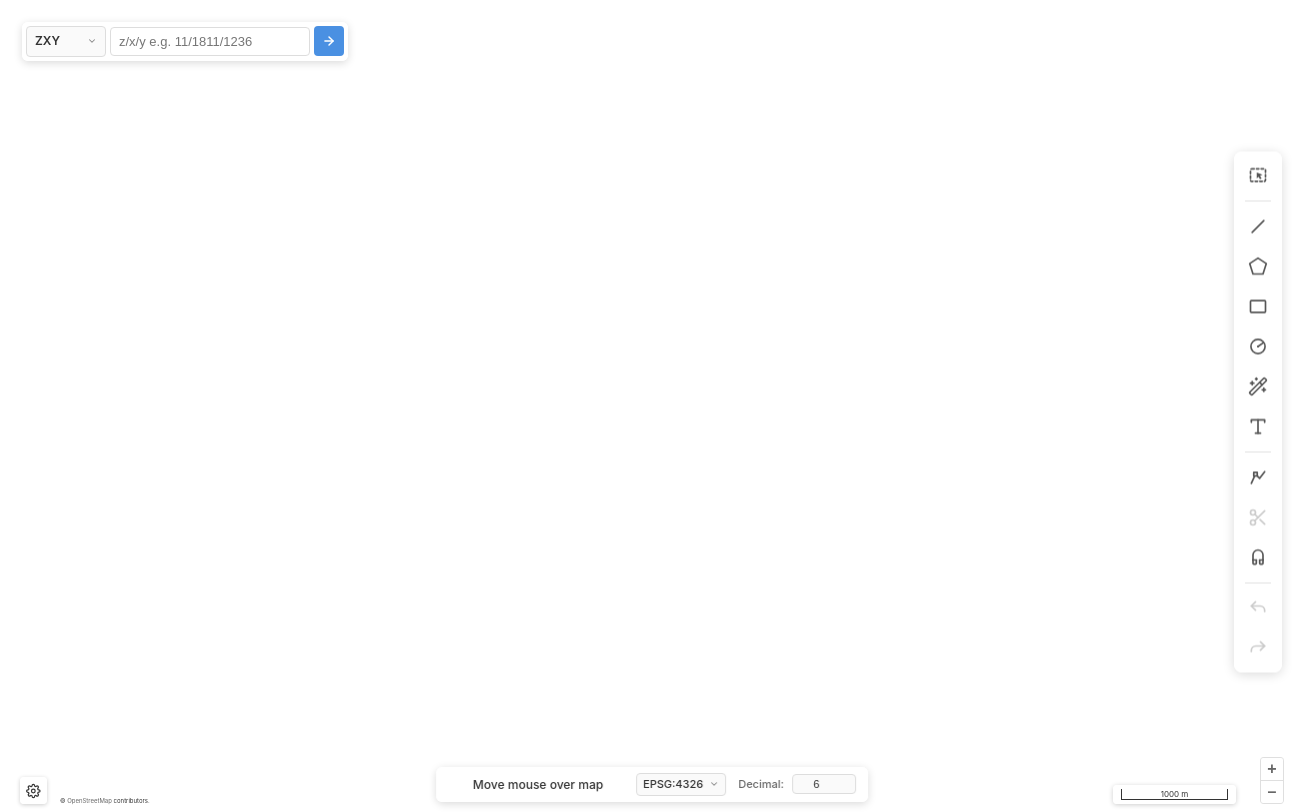
reopening the settings panel restores the editor section mid-session
Click the button titled "Settings" at [33, 791], box [20, 777, 47, 804]
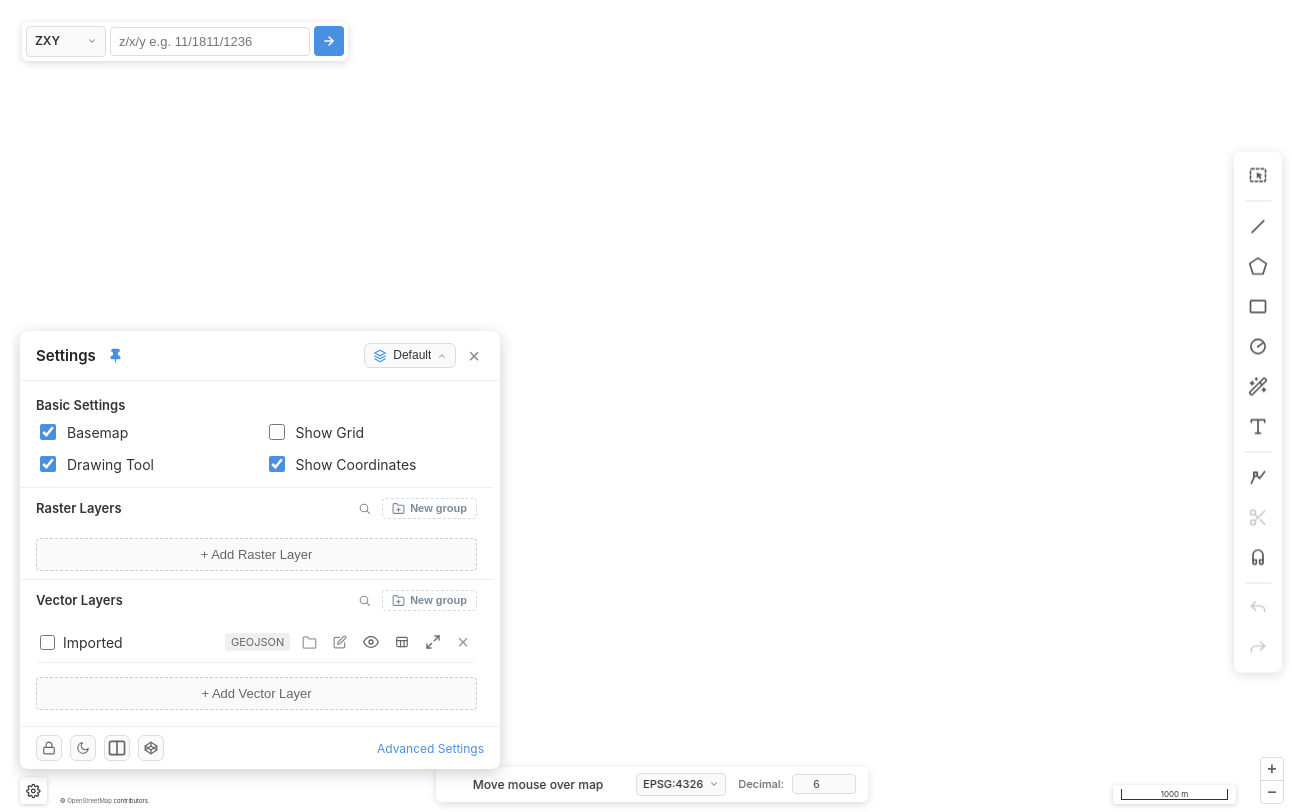
Check: the text "Imported" is shown, box [63, 634, 123, 651]
Click the button titled "Edit layer" at [340, 642], box [329, 631, 351, 653]
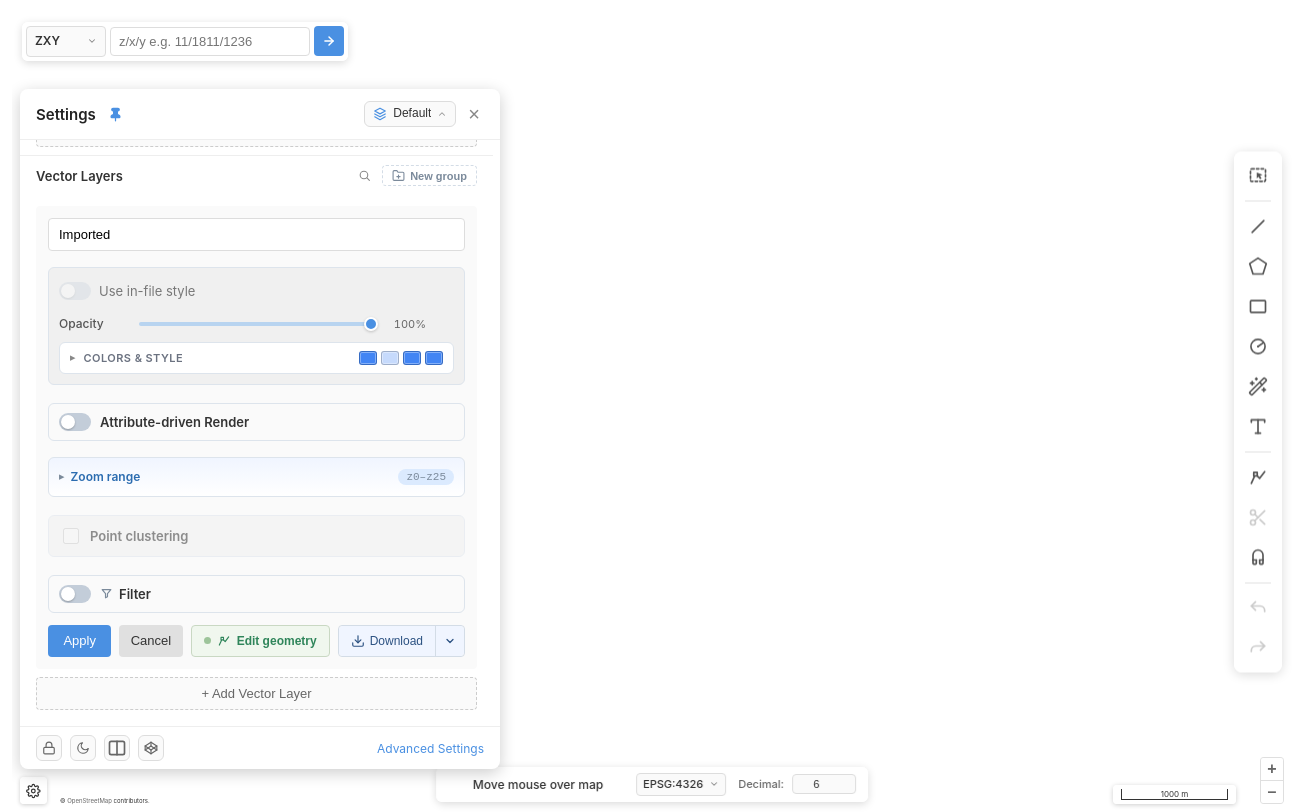
Click the button "Edit geometry" at [260, 641], box [191, 625, 330, 657]
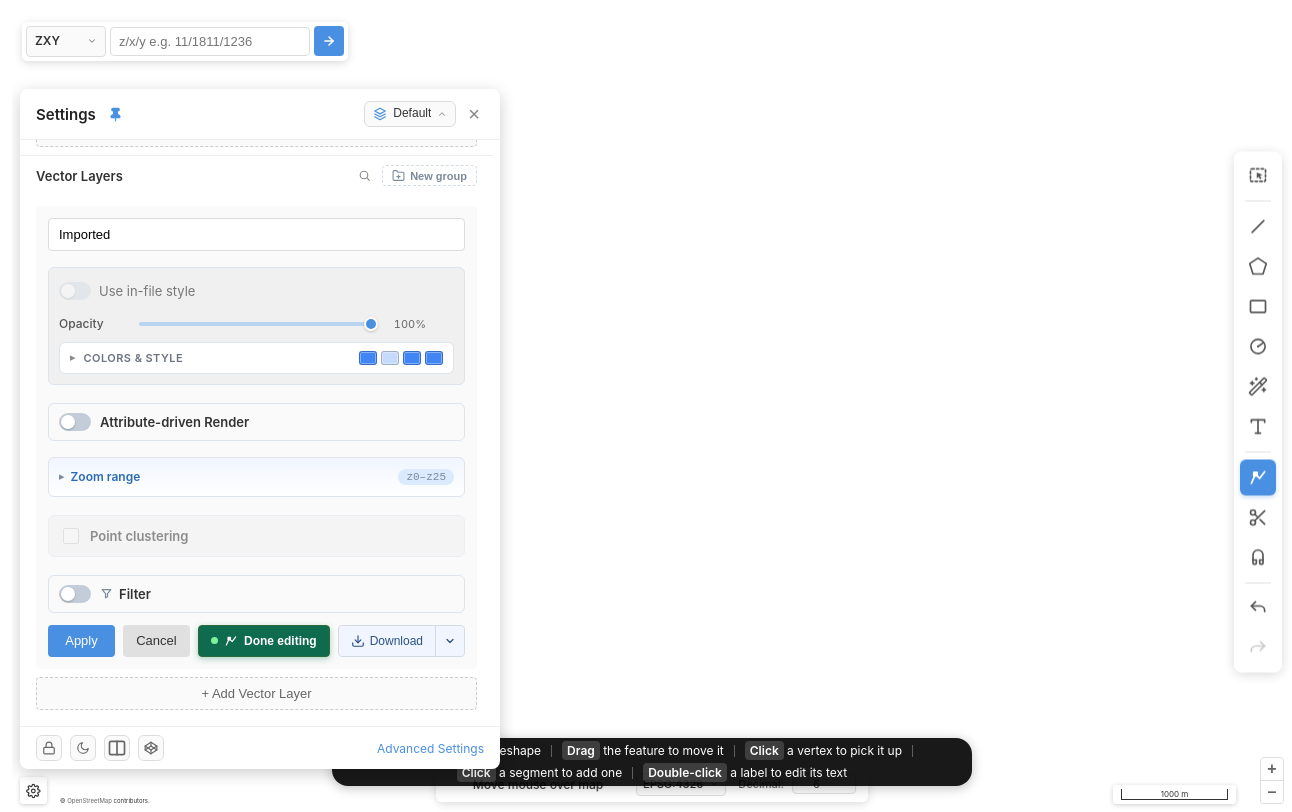
Check: the button "Done editing" is shown, box [198, 625, 330, 657]
Click the button titled "Settings" at [33, 791], box [20, 777, 47, 804]
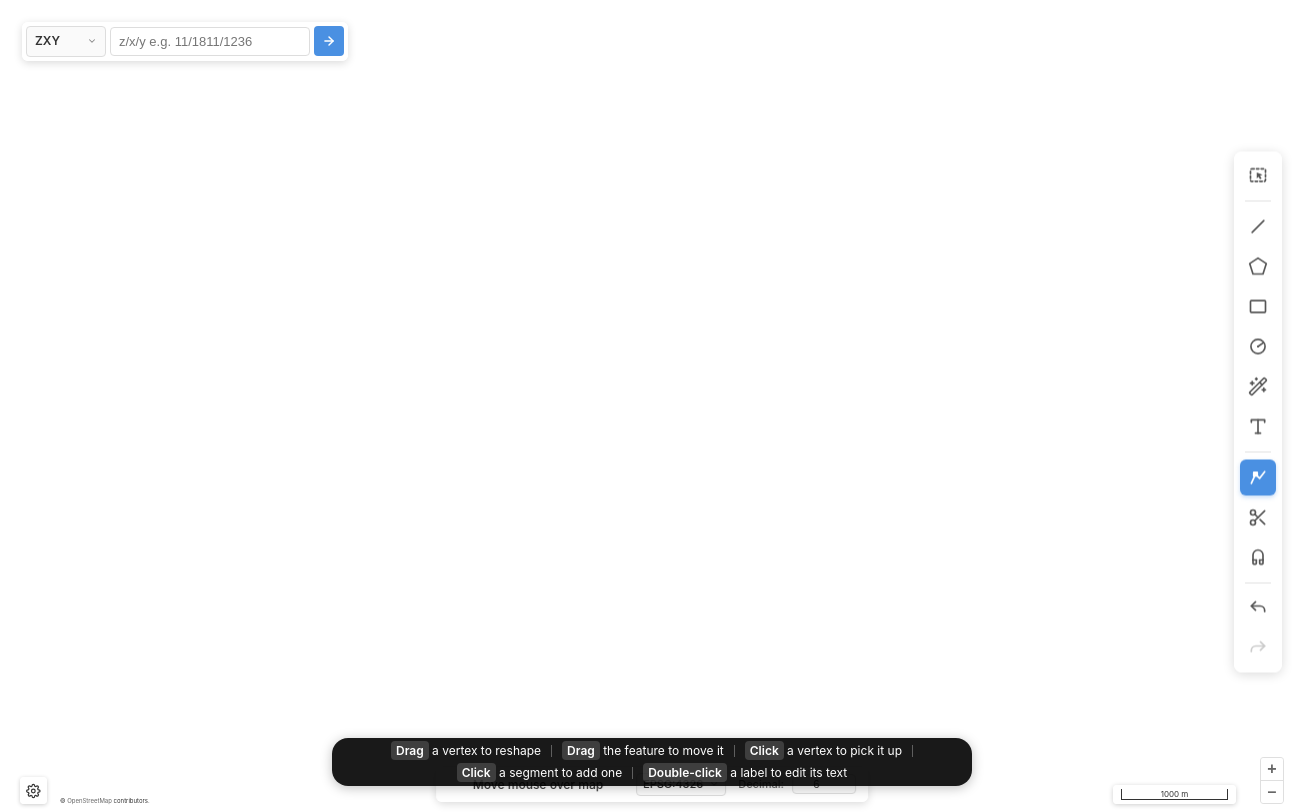
Click the button titled "Settings" at [33, 791], box [20, 777, 47, 804]
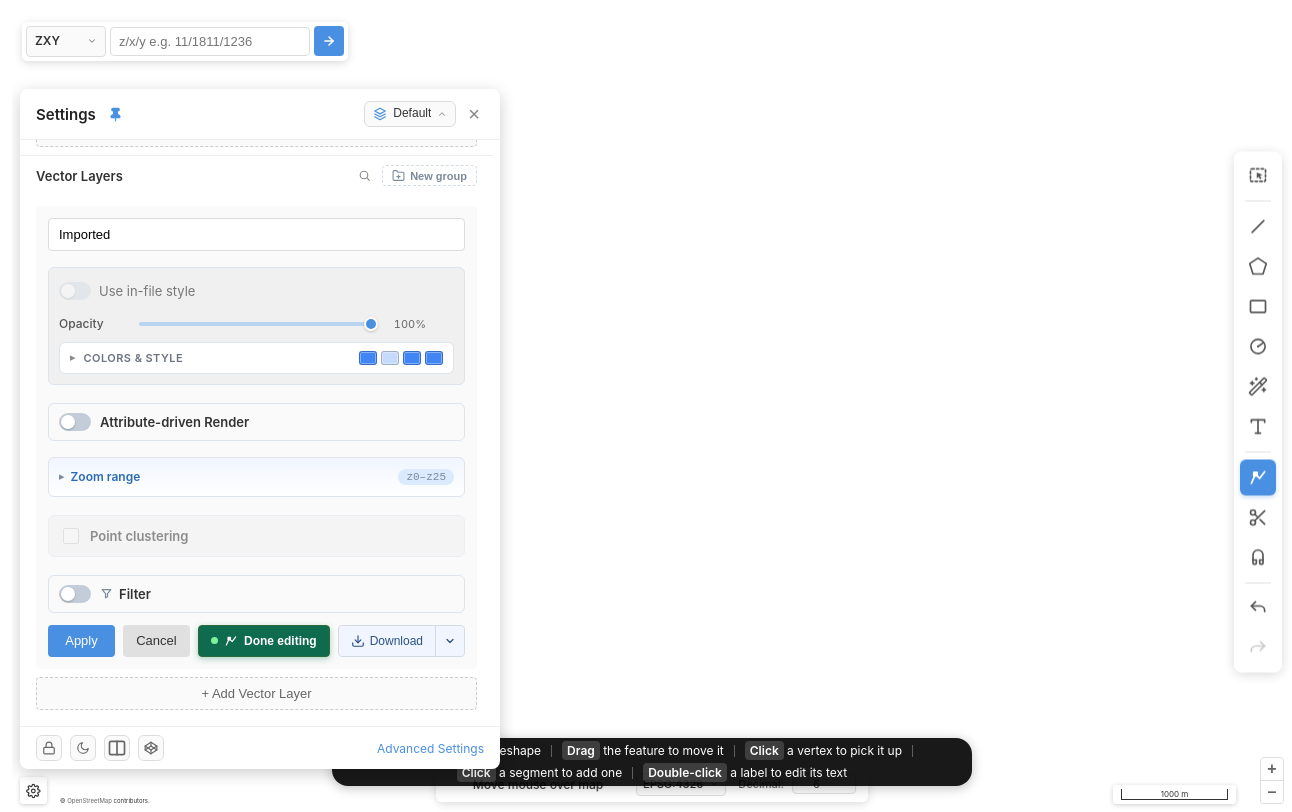
Check: the button "Done editing" is shown, box [198, 625, 330, 657]
